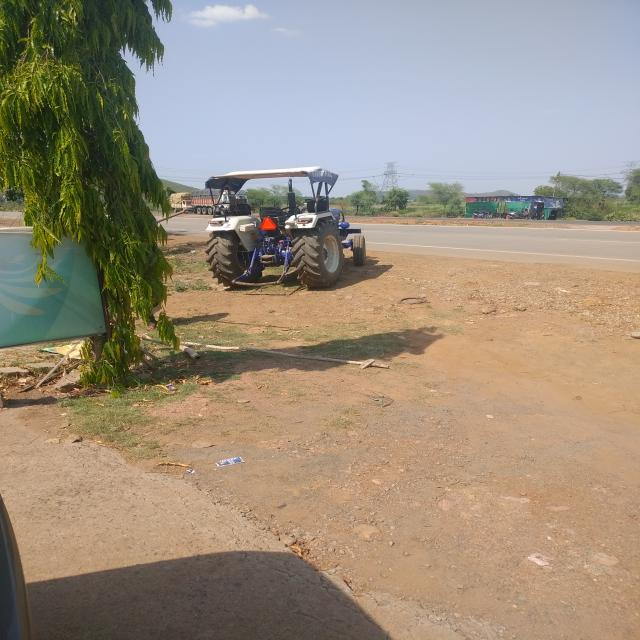Tractor: (198, 163, 372, 295)
